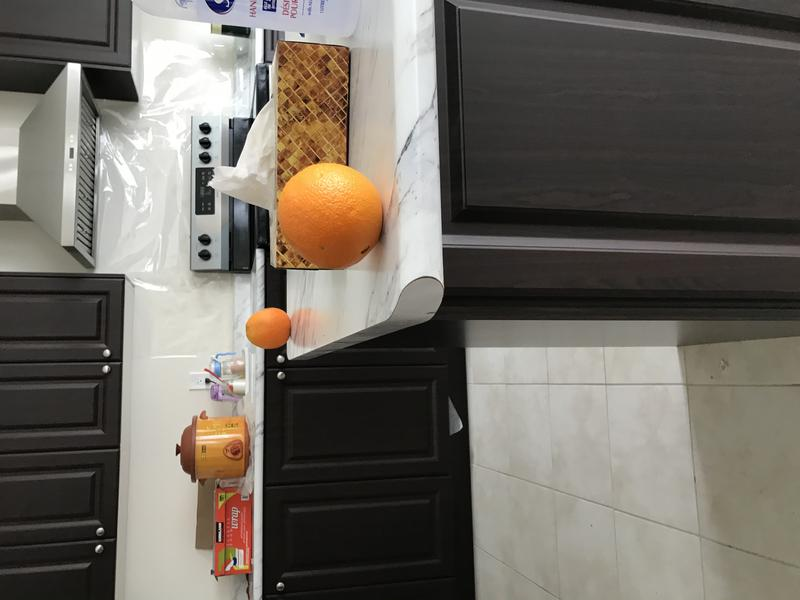orange: (269, 159, 389, 273), (237, 303, 299, 354)
